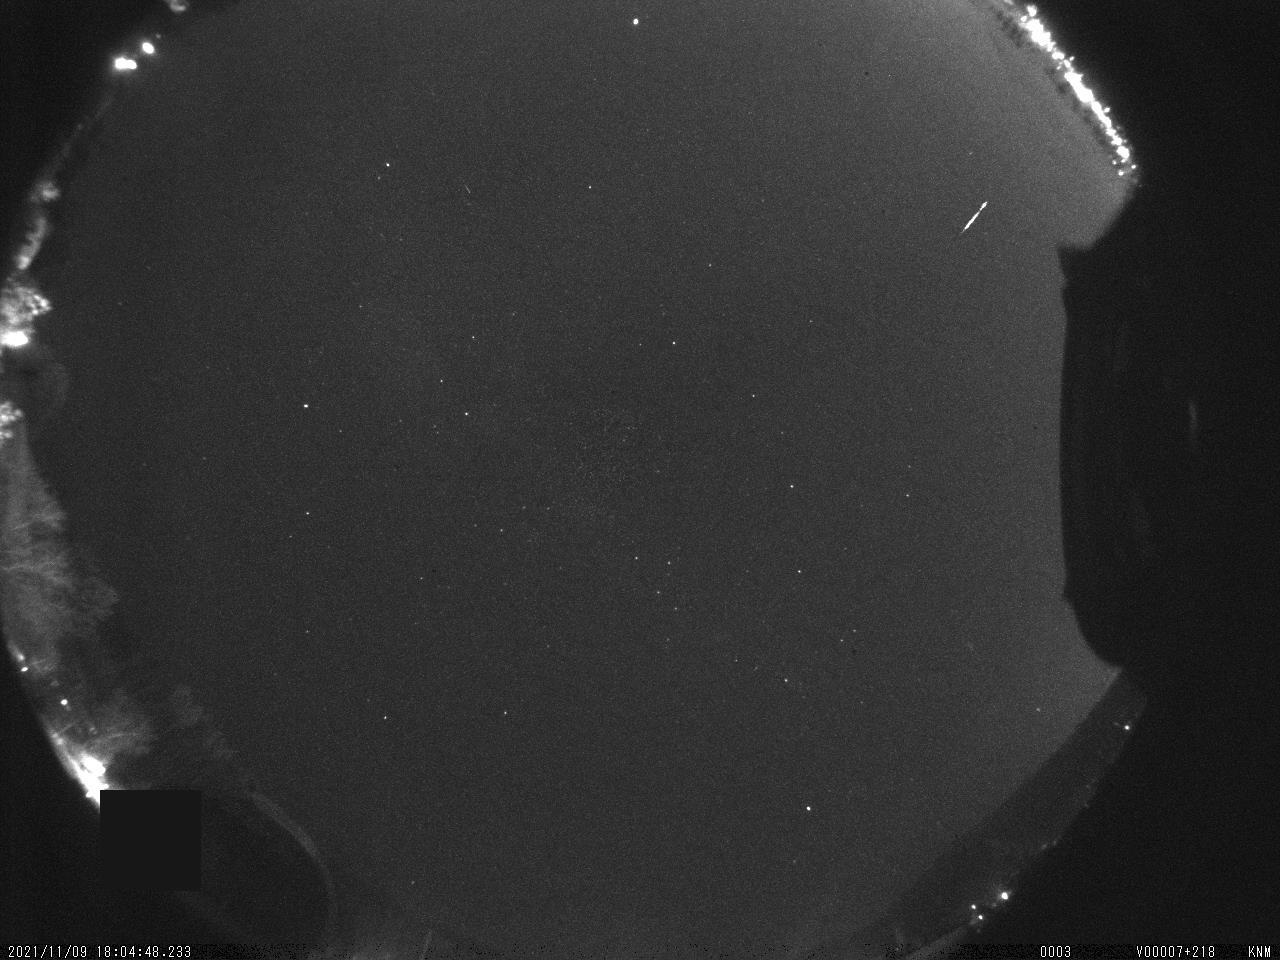meteor: (949, 189, 996, 247)
